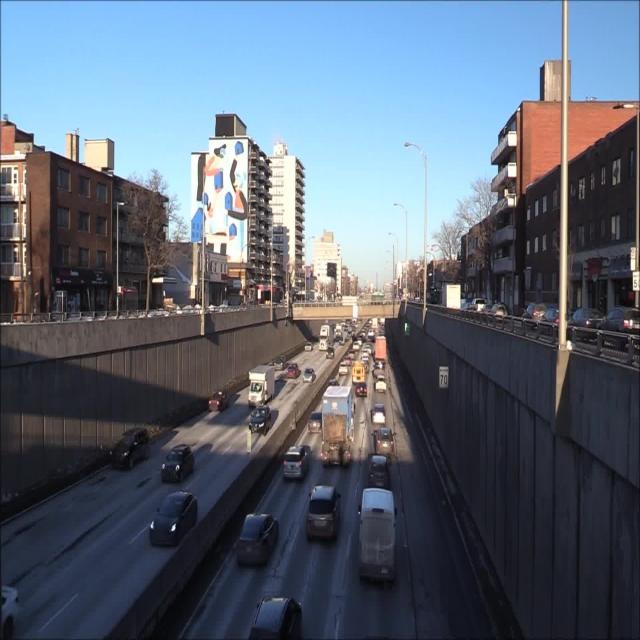Car: (352, 486, 402, 581), (146, 476, 200, 551), (235, 504, 288, 574), (251, 588, 311, 640), (106, 425, 157, 471), (309, 477, 343, 539), (160, 433, 193, 485), (284, 440, 311, 483), (367, 450, 395, 490), (371, 421, 398, 455), (245, 400, 272, 433), (203, 387, 236, 414), (367, 398, 389, 426), (370, 362, 387, 392), (284, 354, 299, 386), (301, 360, 316, 388), (354, 381, 369, 404), (337, 360, 350, 380)
Truck: (314, 378, 354, 476), (247, 361, 277, 409)
